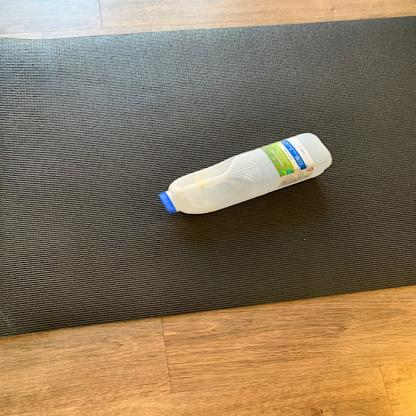trash: (158, 132, 334, 218)
